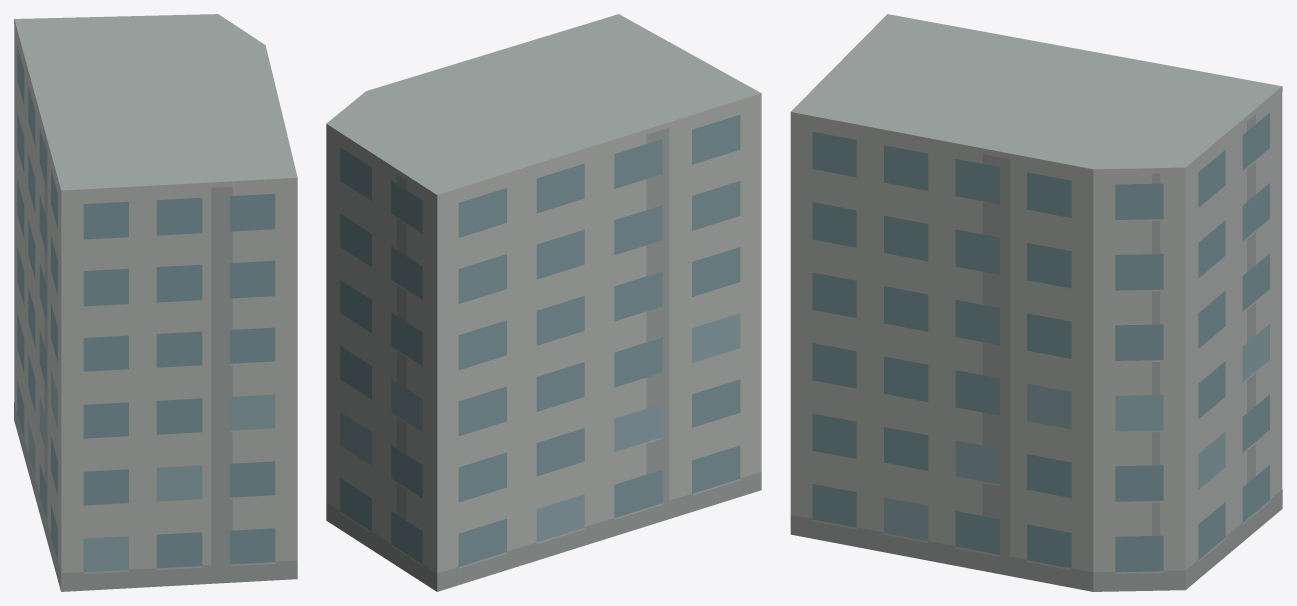
File: survey-upis-32843766.glb
The picture shows the model from 3 angles, left to right: view 1: azimuth 30°, elevation 25°; view 2: azimuth 150°, elevation 25°; view 3: azimuth 270°, elevation 25°; orthographic projection. The views are drawn at different scales.
Visible parts, largest first — view 1: survey-upis-32843766.tmp; view 2: survey-upis-32843766.tmp; view 3: survey-upis-32843766.tmp.
Boxes of the visible parts, bbox=[...] form: survey-upis-32843766.tmp: bbox=[14, 14, 297, 591]; survey-upis-32843766.tmp: bbox=[326, 14, 761, 591]; survey-upis-32843766.tmp: bbox=[790, 14, 1282, 591].
Bounding box in the file's own units: 14.43 × 18.3 × 19.31.
